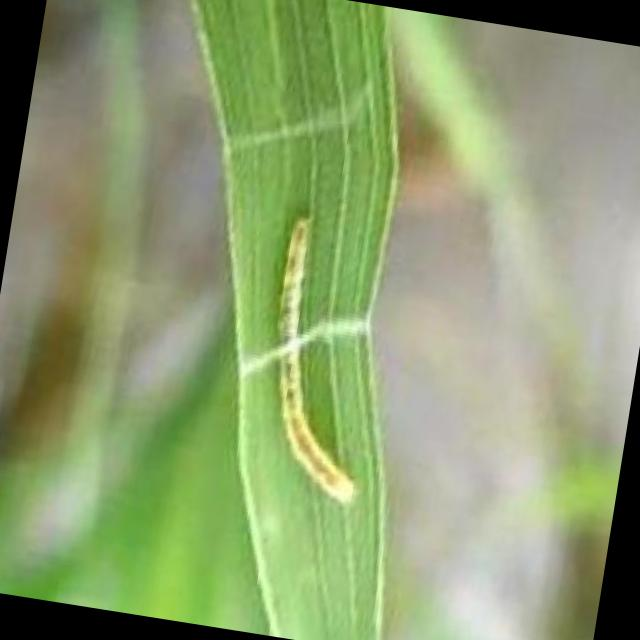leaf-folder: (219, 202, 418, 524)
